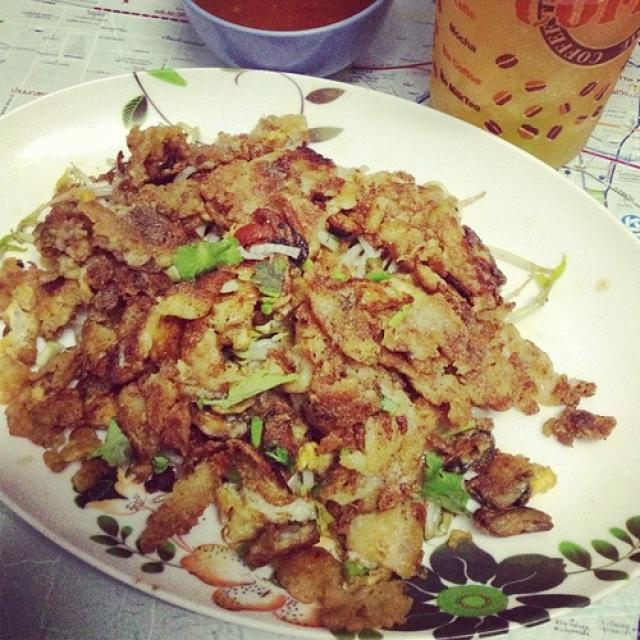炸货点心: (12, 45, 616, 623)
蛋糕甜品: (12, 45, 616, 623)
